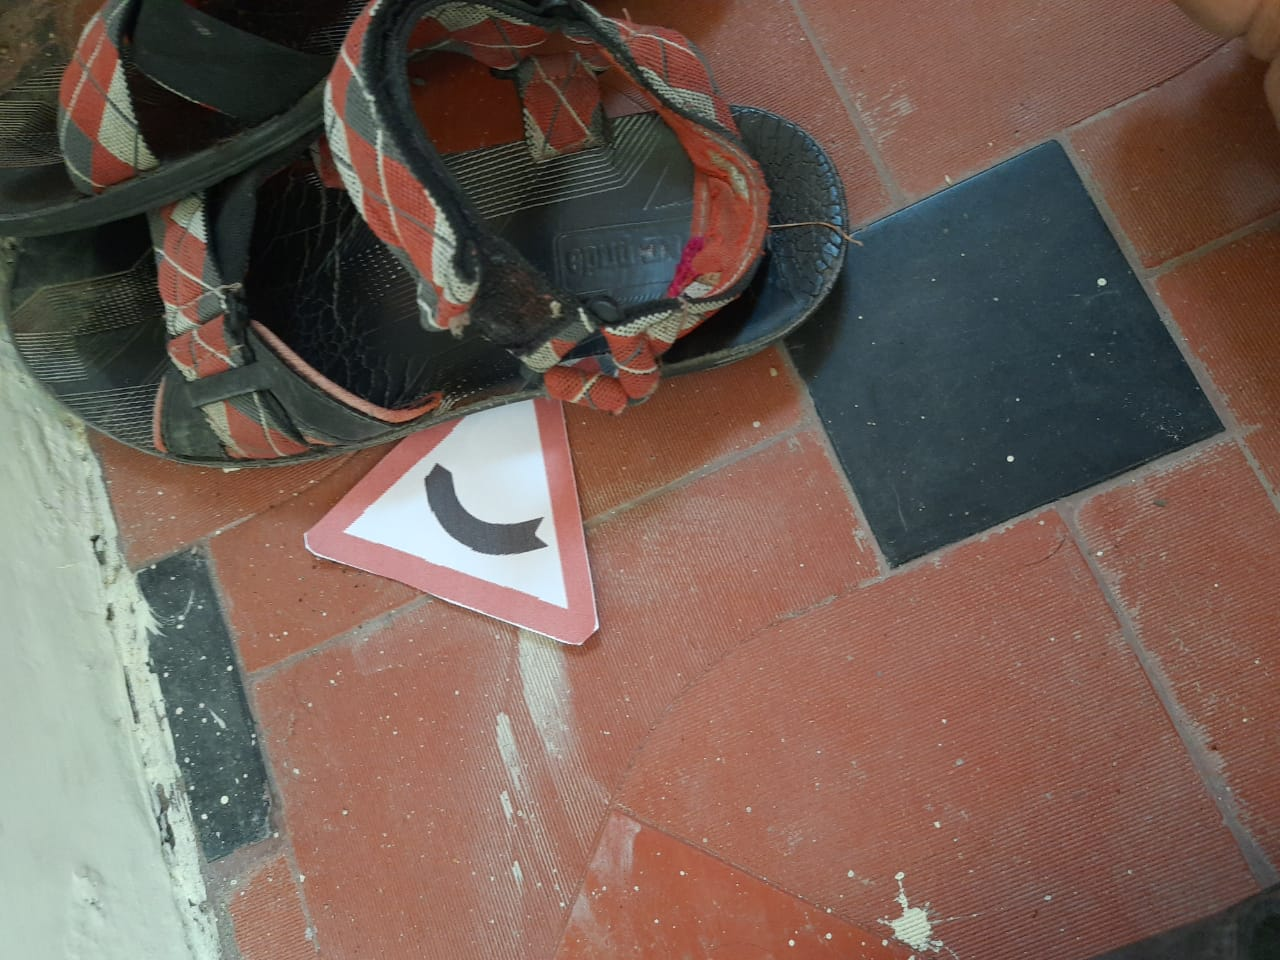RIGHT CURVE: (293, 347, 635, 654)
